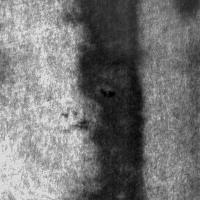patches: (77, 1, 146, 199), (83, 0, 200, 67), (172, 1, 200, 18)
